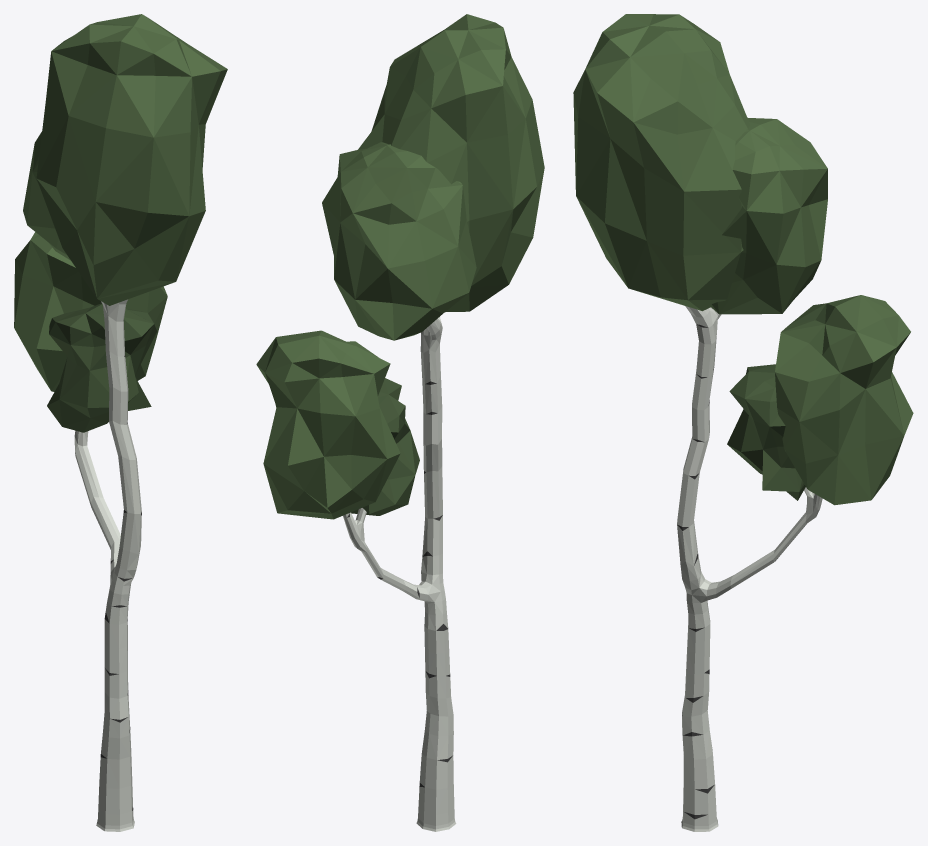
Rendered from BirchTree_5.glb.
3 renders of one model, left to right at view 1: azimuth 30°, elevation 25°; view 2: azimuth 150°, elevation 25°; view 3: azimuth 270°, elevation 25°, orthographic. The views are drawn at different scales.
Parts seen in each view (by area): view 1: Model; view 2: Model; view 3: Model.
Part boxes in pixels (<box>): Model: <box>14,14,227,831</box>; Model: <box>256,14,544,831</box>; Model: <box>573,14,913,831</box>.
Size of the model in its own units: 119 by 501 by 193.
